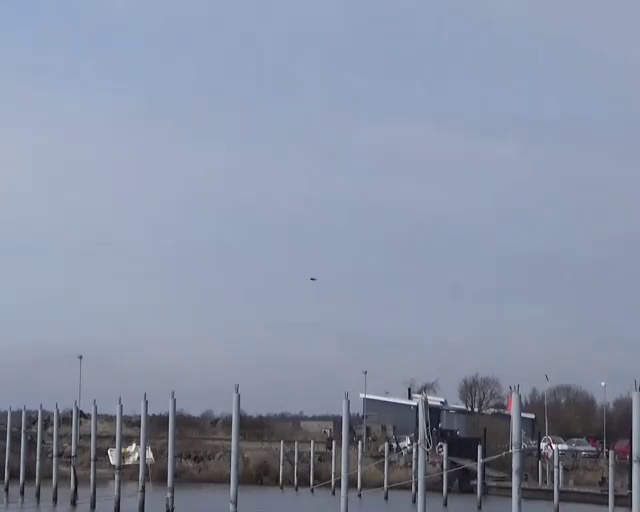BIRD: (310, 276, 318, 283)
